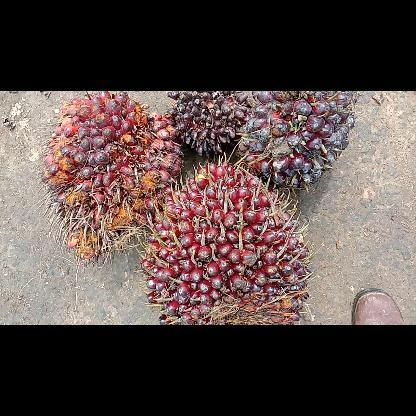Kurang masak: (137, 160, 315, 324), (234, 91, 358, 191)
TBS abnormal: (160, 91, 250, 157)
TBS masak: (36, 91, 184, 263)
